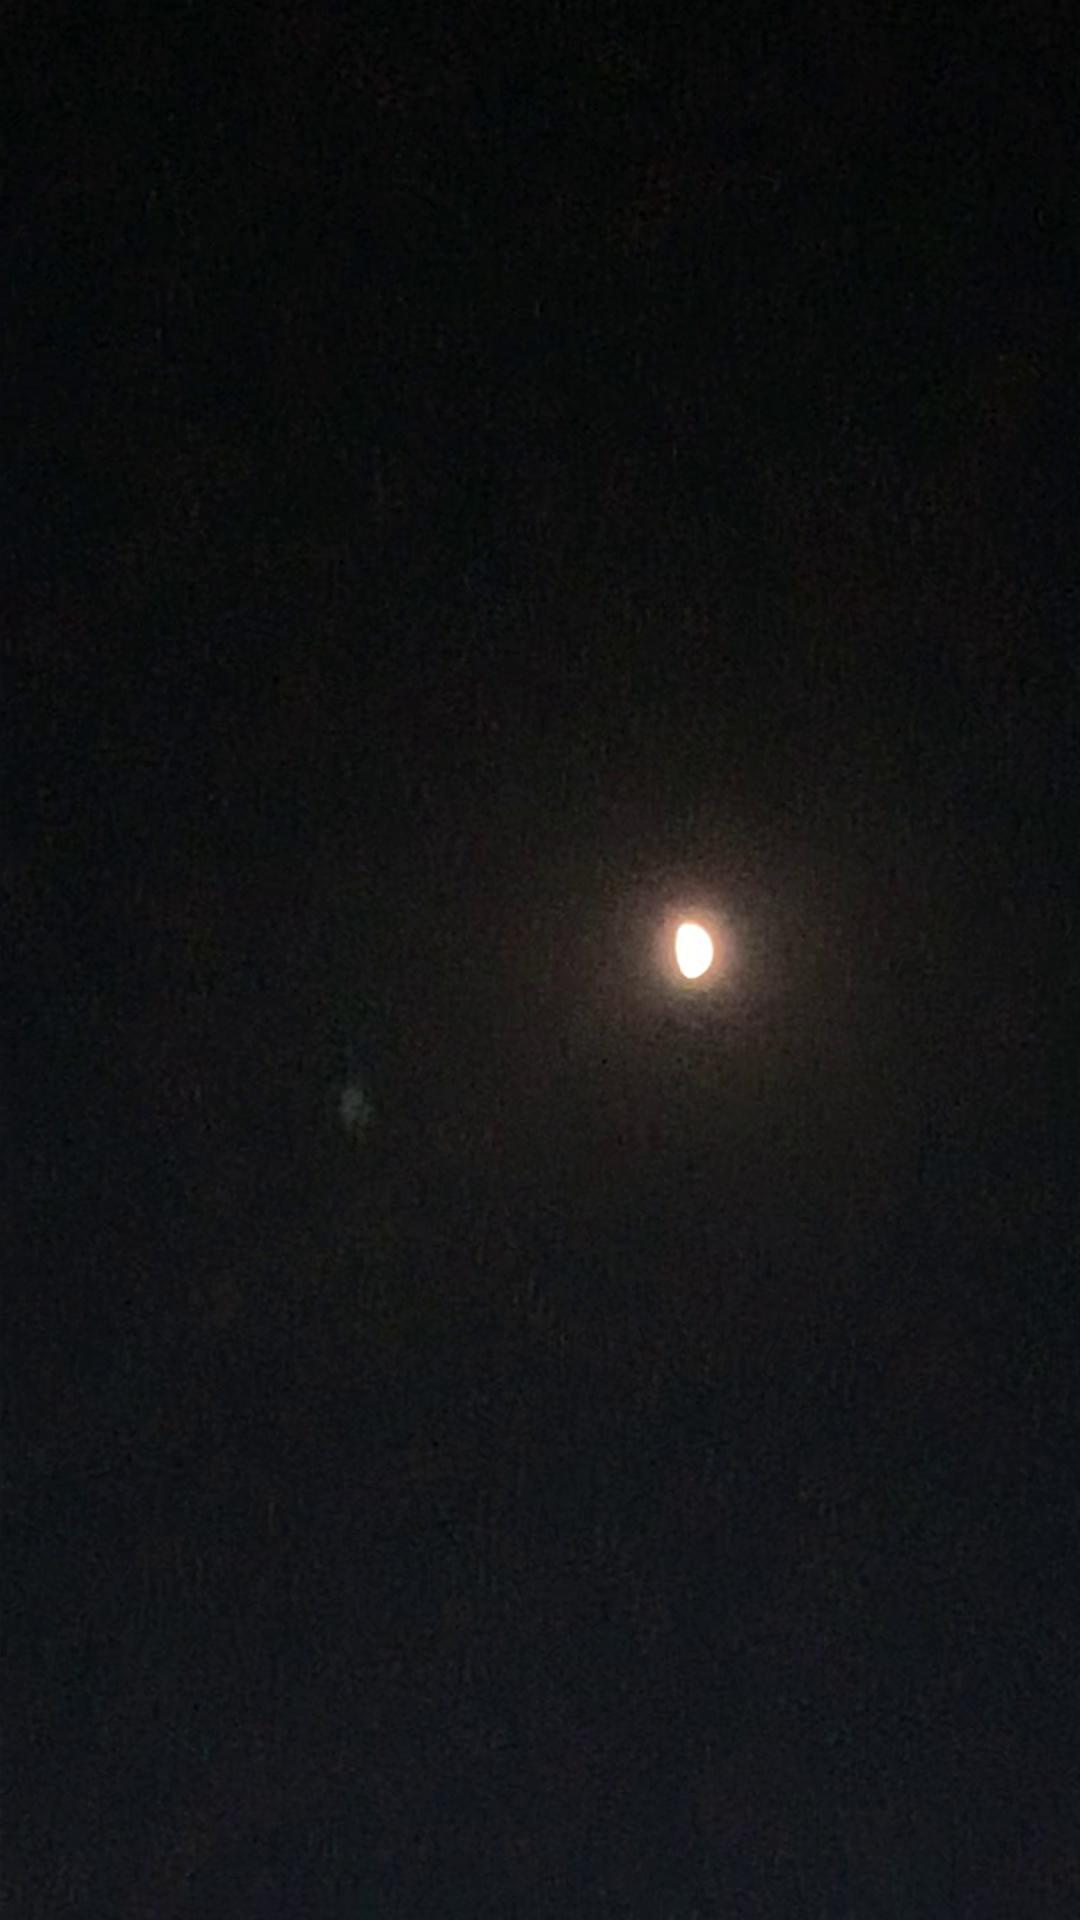moon: (647, 905, 740, 1004)
